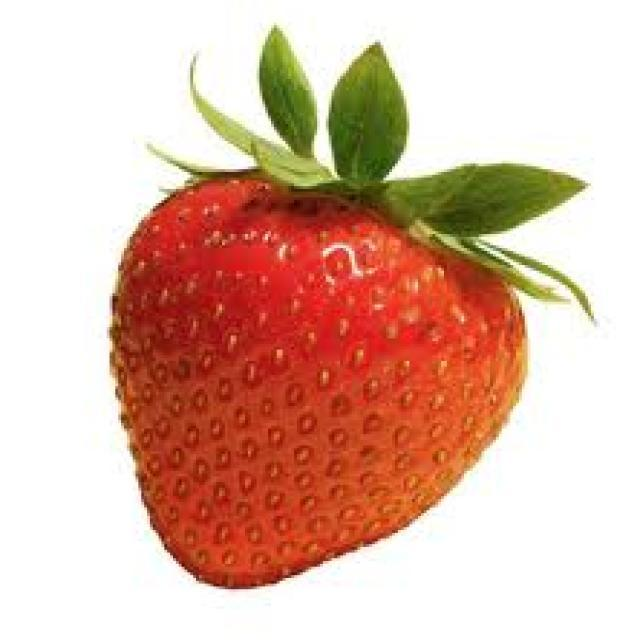Strawberry: (61, 14, 608, 606)
